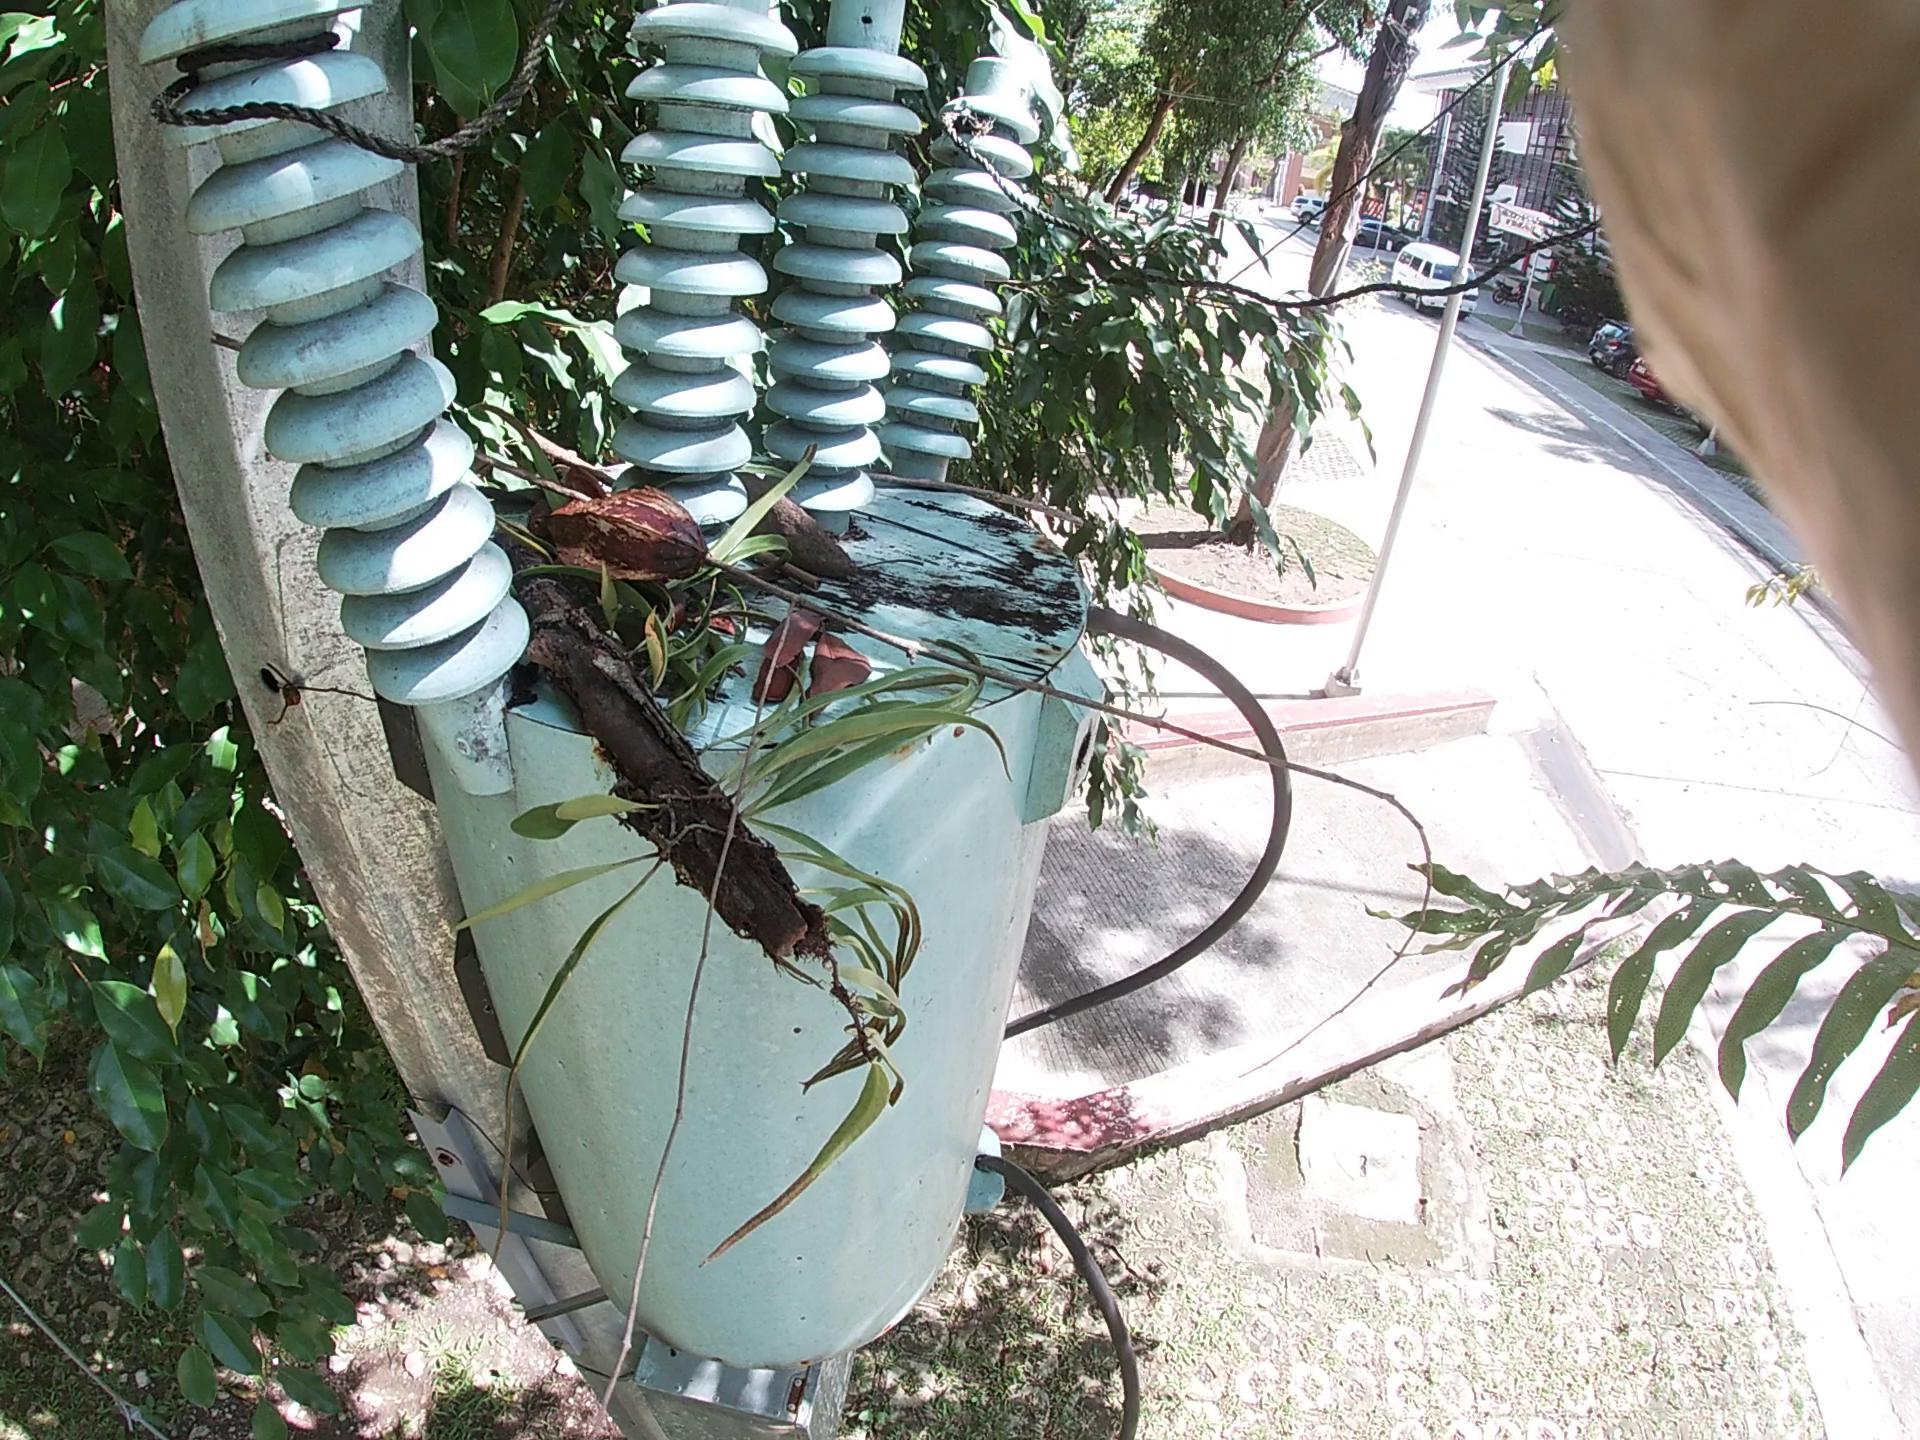branch with leaves: (454, 470, 872, 930)
leaf: (741, 617, 848, 725)
mahogany fruit: (517, 483, 649, 613), (720, 470, 848, 601)
tree branch: (444, 430, 1468, 892), (865, 451, 1147, 554), (742, 520, 859, 644)
